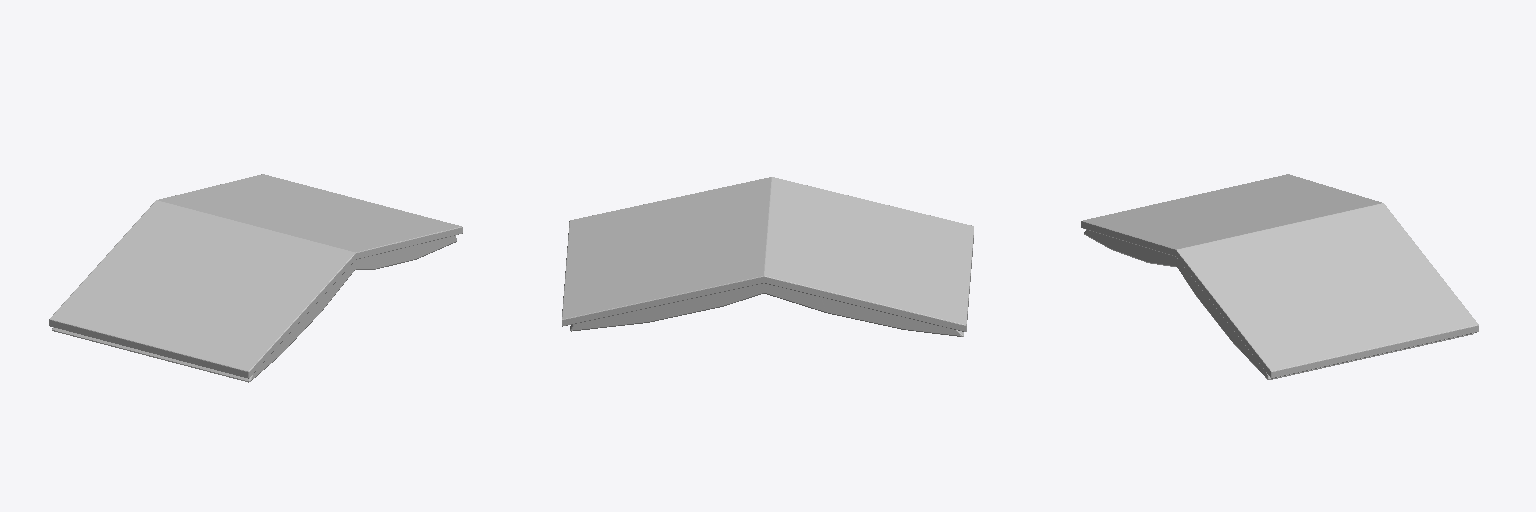
Rendered from Buku kebuka.obj.
3 renders of one model, left to right at view 1: azimuth 30°, elevation 25°; view 2: azimuth 150°, elevation 25°; view 3: azimuth 270°, elevation 25°, orthographic.
Parts seen in each view (by area): view 1: pCube15, pCube23; view 2: pCube15, pCube23; view 3: pCube15, pCube23.
Boxes of the visible parts, <box> form: pCube15: <box>49,174,462,378</box>; pCube23: <box>52,235,456,382</box>; pCube15: <box>562,177,973,331</box>; pCube23: <box>570,283,963,336</box>; pCube15: <box>1081,174,1478,378</box>; pCube23: <box>1084,230,1473,379</box>.
Bounding box in the file's own units: 2.94 × 0.4112 × 2.51.